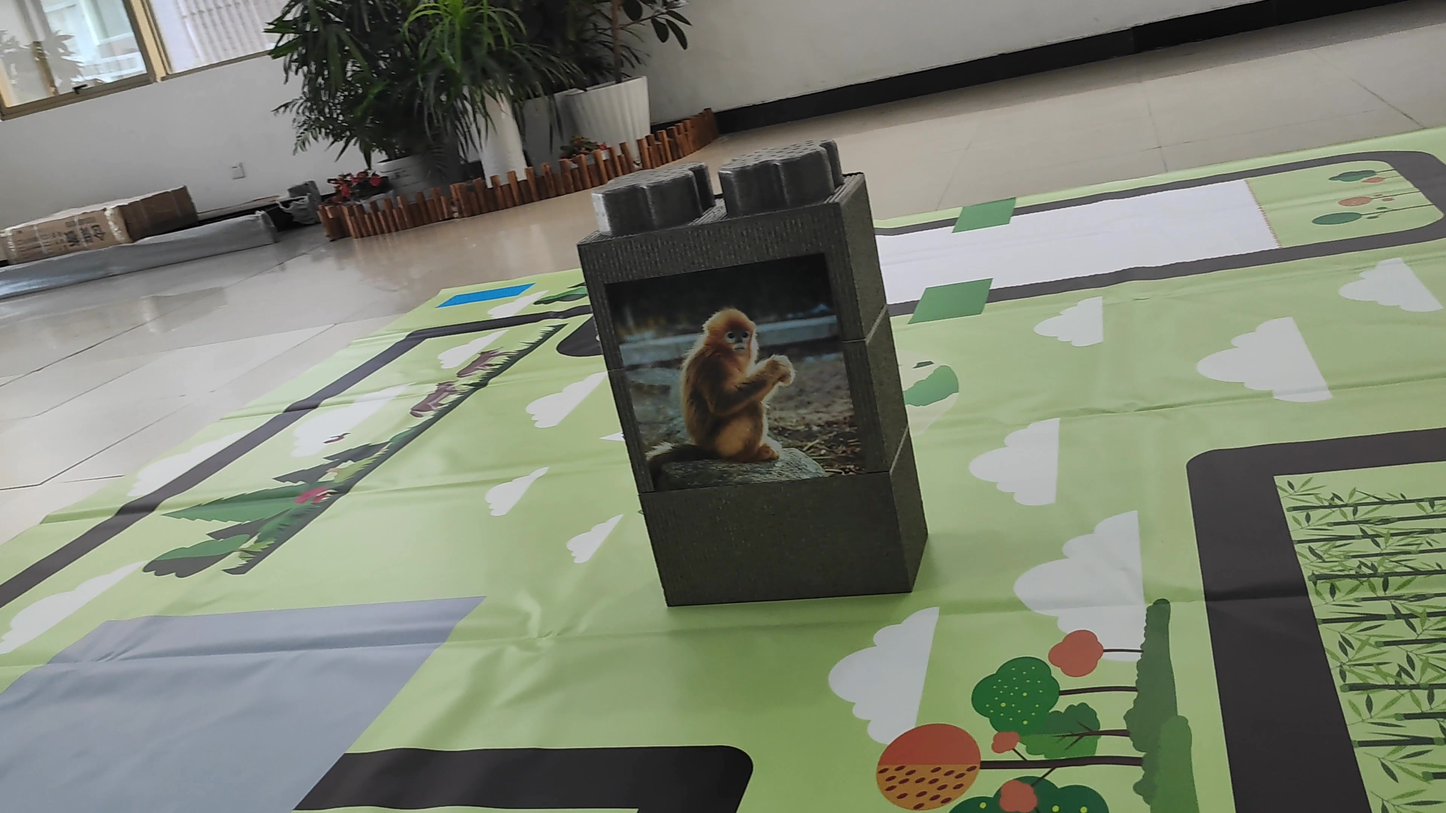monkey: (642, 307, 807, 491)
